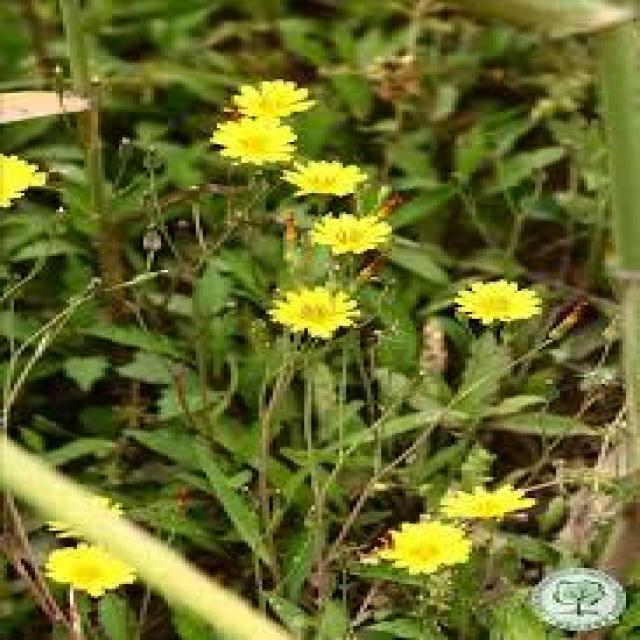organic waste: (31, 536, 147, 588), (371, 522, 472, 574), (264, 282, 359, 332), (426, 478, 538, 520), (0, 142, 70, 209), (460, 280, 554, 327), (201, 118, 296, 160), (290, 214, 402, 247), (278, 160, 369, 196), (232, 75, 316, 112)
